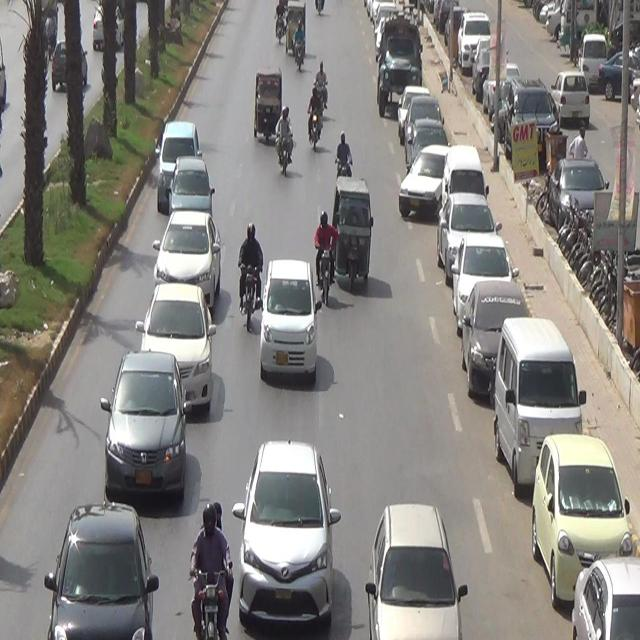car: (232, 432, 346, 632), (519, 420, 632, 597), (492, 308, 586, 486), (38, 505, 154, 640), (98, 342, 191, 500), (362, 510, 465, 640), (140, 284, 218, 416), (449, 285, 530, 393), (558, 547, 640, 639), (260, 256, 318, 380), (158, 210, 222, 308), (434, 185, 498, 282), (451, 231, 512, 321), (154, 117, 204, 212), (402, 148, 445, 226), (163, 155, 213, 221), (442, 137, 487, 210), (402, 116, 445, 174), (396, 84, 429, 130)
motorbike: (190, 502, 229, 640), (310, 203, 342, 308), (238, 214, 262, 340), (272, 100, 294, 178), (330, 128, 356, 186), (312, 54, 332, 120), (305, 95, 325, 156), (292, 20, 309, 73), (272, 0, 291, 43)
truck: (366, 20, 428, 112)
